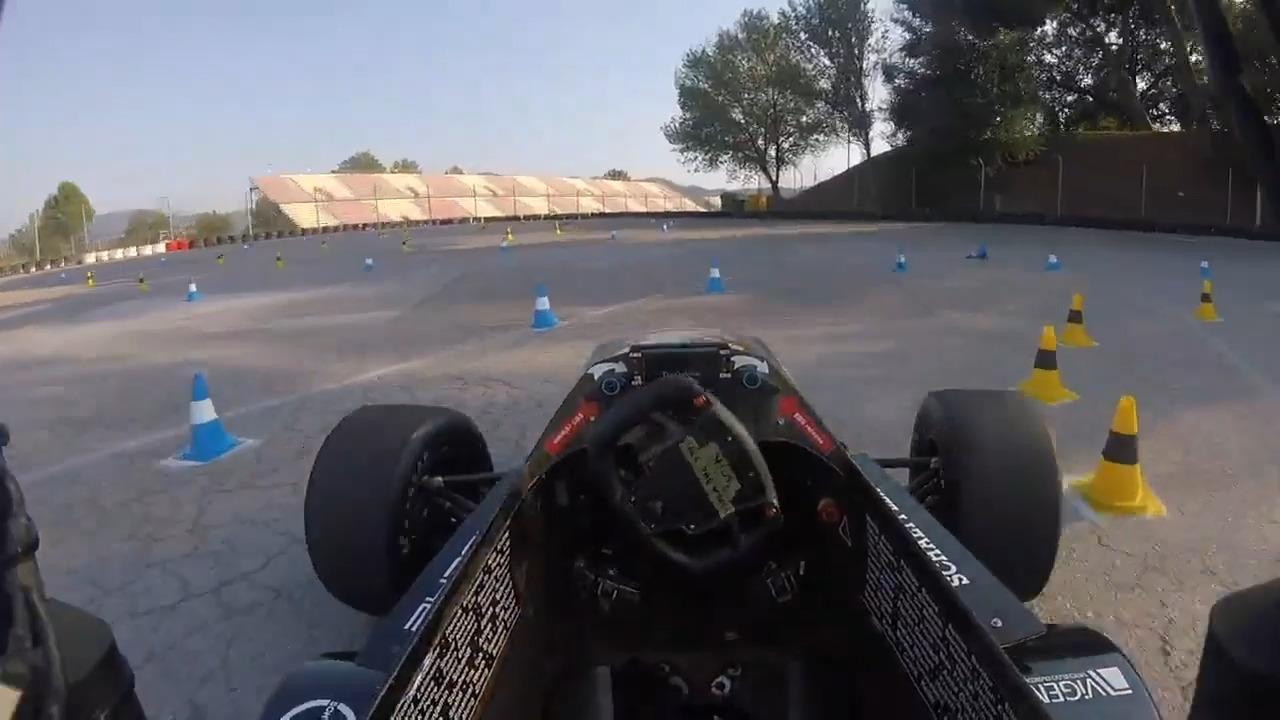blue_cone: (181, 371, 234, 462), (532, 283, 555, 332), (1195, 249, 1215, 291), (705, 257, 723, 294), (360, 247, 378, 280), (1044, 243, 1062, 273), (184, 274, 201, 304), (892, 242, 906, 273)
yellow_cone: (1082, 396, 1152, 513), (1023, 325, 1066, 404), (1060, 291, 1088, 347), (1193, 276, 1218, 324), (135, 269, 150, 295), (272, 249, 284, 271)
